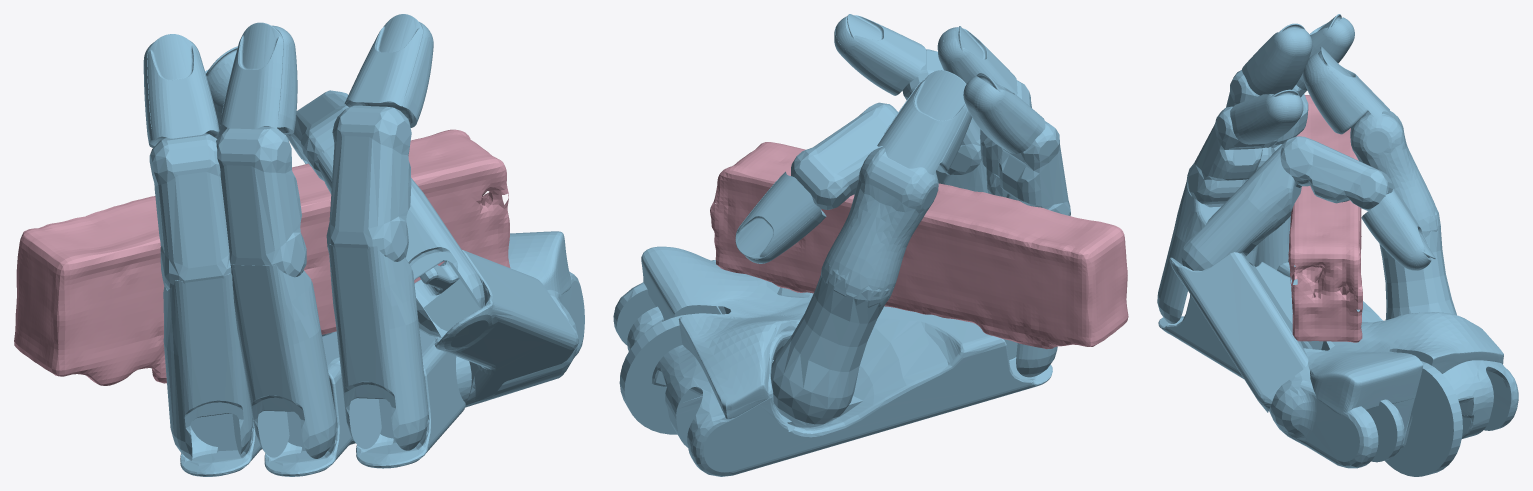
3 views of the same model, side by side, from view 1: azimuth 30°, elevation 25°; view 2: azimuth 150°, elevation 25°; view 3: azimuth 270°, elevation 25° (orthographic). The views are drawn at different scales.
Parts seen in each view (by area): view 1: hand, world; view 2: hand, world; view 3: hand, world.
Part boxes in pixels (box(x1,y1,x2,y2)): hand: box(143, 14, 584, 476); world: box(14, 129, 510, 385); hand: box(613, 14, 1070, 476); world: box(710, 142, 1128, 349); hand: box(1157, 14, 1518, 476); world: box(1288, 95, 1362, 342).
Size of the model in its own units: 0.162 by 0.132 by 0.1205.
